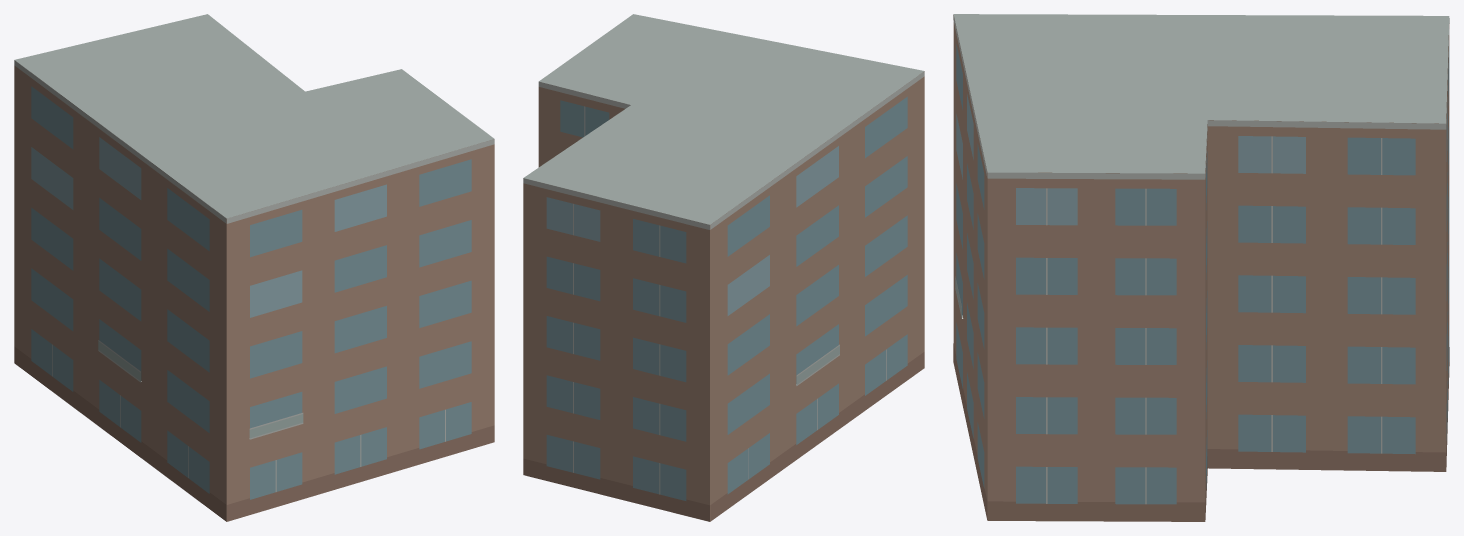
Rendered from survey-upis-32745944.glb.
3 renders of one model, left to right at view 1: azimuth 30°, elevation 25°; view 2: azimuth 150°, elevation 25°; view 3: azimuth 270°, elevation 25°, orthographic. The views are drawn at different scales.
Visible parts, largest first — view 1: survey-upis-32745944.tmp; view 2: survey-upis-32745944.tmp; view 3: survey-upis-32745944.tmp.
Boxes of the visible parts, x1,y1,x2,y2 form: survey-upis-32745944.tmp: (14, 14, 494, 521); survey-upis-32745944.tmp: (523, 14, 924, 521); survey-upis-32745944.tmp: (953, 14, 1449, 521).
Bounding box in the file's own units: 13.56 × 13.8 × 17.81.
